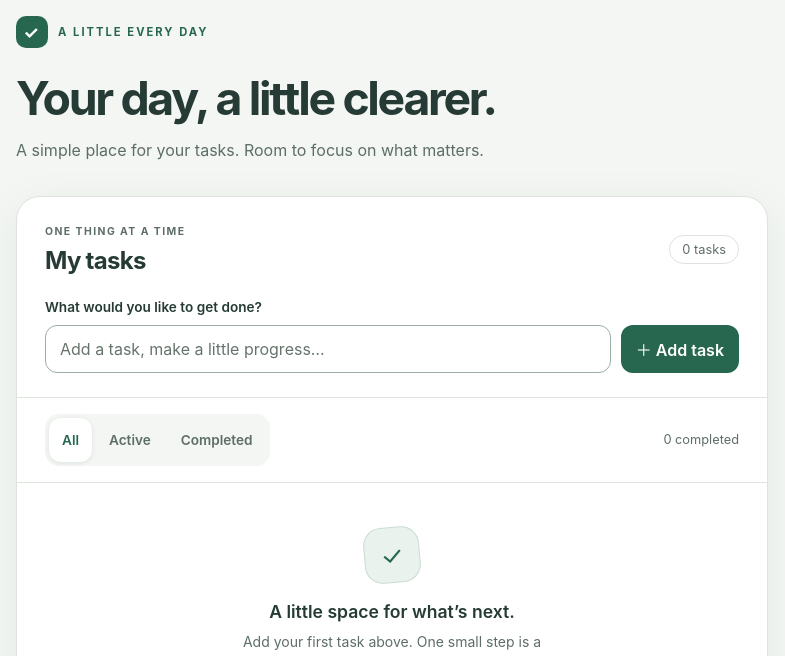
Test case: todo app › moves focus to a surviving row on removal, then to add when none remain
Type "First" into the field labelled "What would you like to get done?" at (328, 349), box left=45, top=325, right=611, bottom=373
Then press Enter
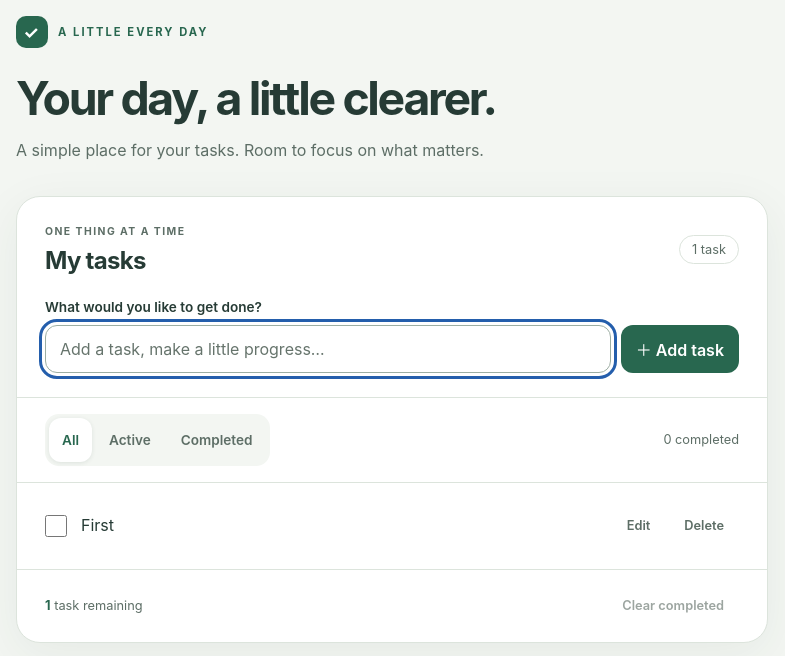
Type "Second" into the field labelled "What would you like to get done?" at (328, 349), box left=45, top=325, right=611, bottom=373
Then press Enter
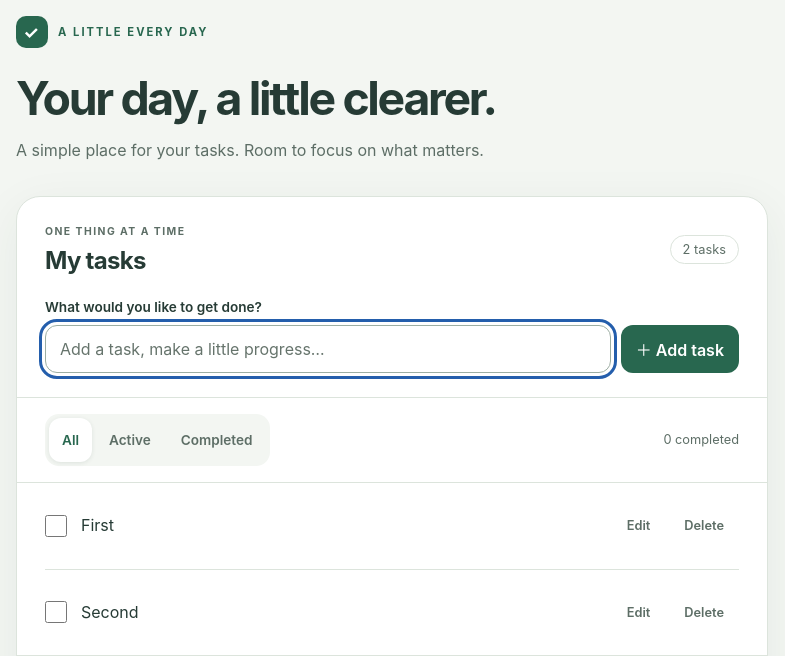
Click the button with aria-label "Delete First" at (704, 526), box left=669, top=504, right=739, bottom=548
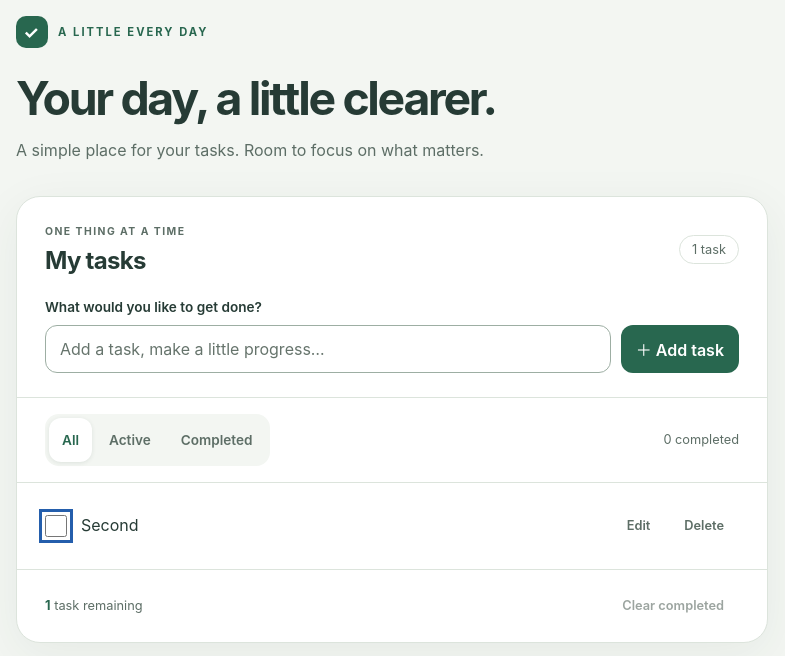
Click the button with aria-label "Delete Second" at (704, 526), box left=669, top=504, right=739, bottom=548
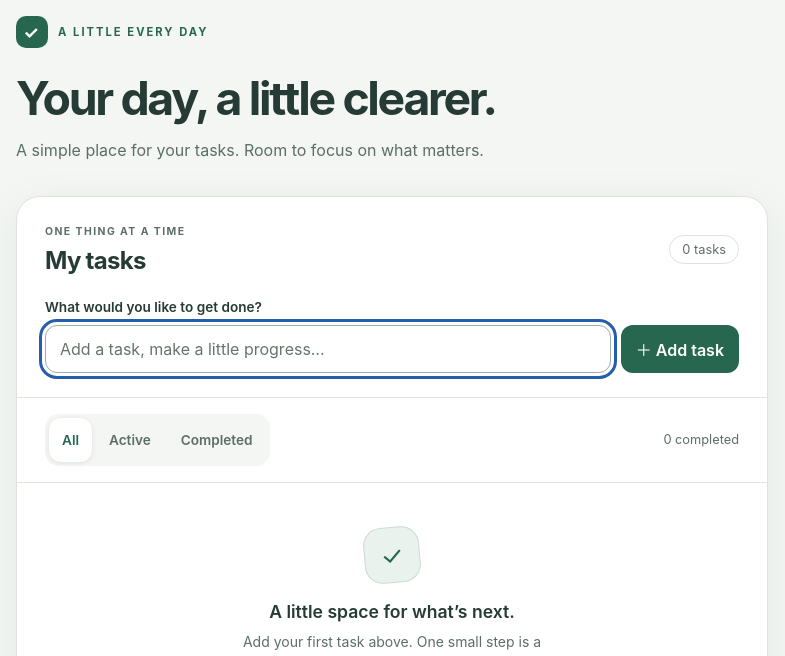
Check: the heading "A little space for what’s next." is shown, box left=269, top=601, right=515, bottom=622
